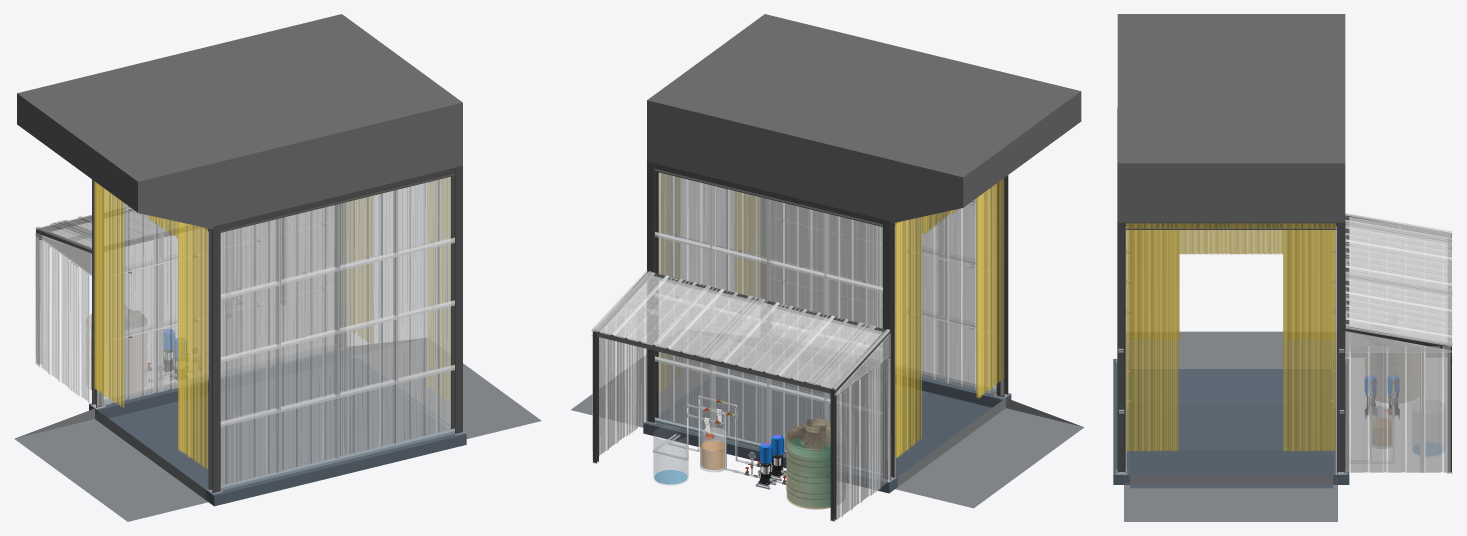
Rendered from site_house_only.glb.
3 renders of one model, left to right at view 1: azimuth 30°, elevation 25°; view 2: azimuth 150°, elevation 25°; view 3: azimuth 270°, elevation 25°, orthographic. The views are drawn at different scales.
Visible parts, largest first — view 1: SprayHouse, ApproachRamps; view 2: SprayHouse, ApproachRamps, TankLiquids; view 3: SprayHouse, ApproachRamps.
Boxes of the visible parts, x1,y1,x2,y2 form: SprayHouse: [17, 14, 466, 506]; ApproachRamps: [14, 338, 541, 521]; SprayHouse: [591, 14, 1081, 521]; ApproachRamps: [571, 355, 1083, 508]; TankLiquids: [653, 426, 830, 507]; SprayHouse: [1113, 14, 1452, 488]; ApproachRamps: [1124, 331, 1337, 521].
Bounding box in the file's own units: 8.2 × 6.45 × 6.18.
